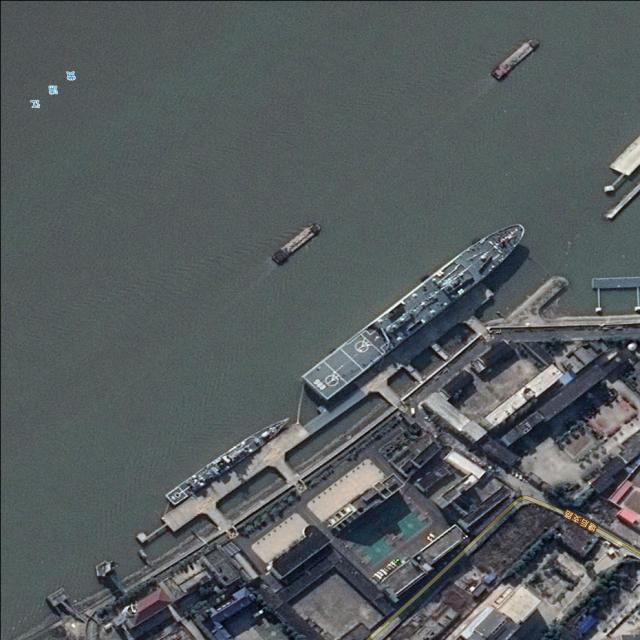Cargo: (489, 34, 542, 85), (271, 217, 323, 267)
Frigate: (165, 407, 296, 513)
Landing: (297, 212, 535, 405)
